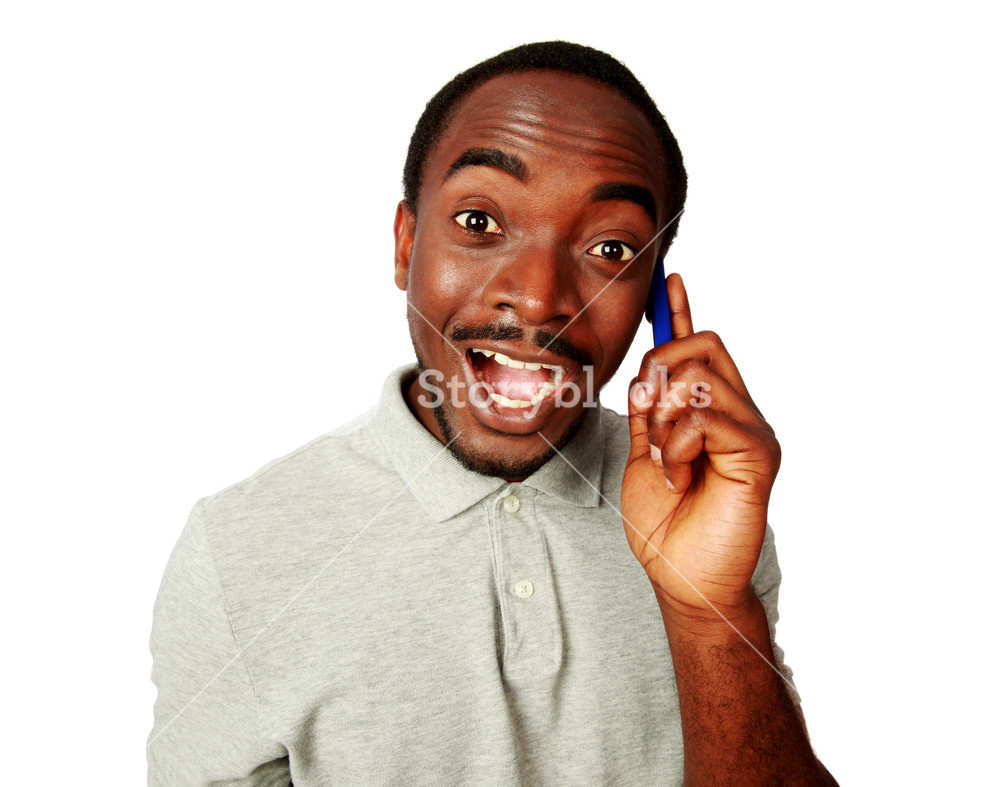phone: (640, 266, 761, 517)
talk: (418, 144, 793, 604)
